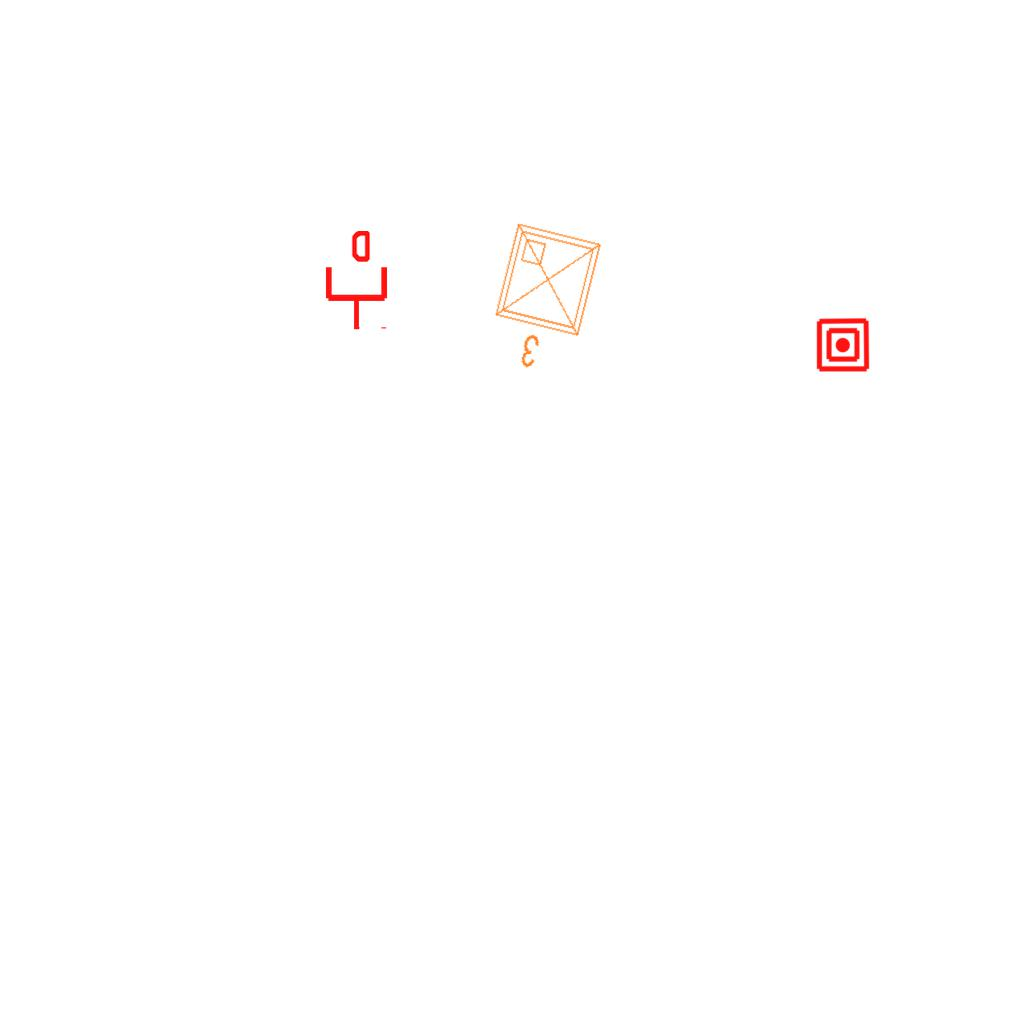Datenanschluss_einfach: (322, 231, 391, 331)
Einbaudownlights_LED_Konferenzraeume: (476, 214, 614, 386)
NAM-Nichtautomatischer_Melder: (814, 316, 872, 374)
